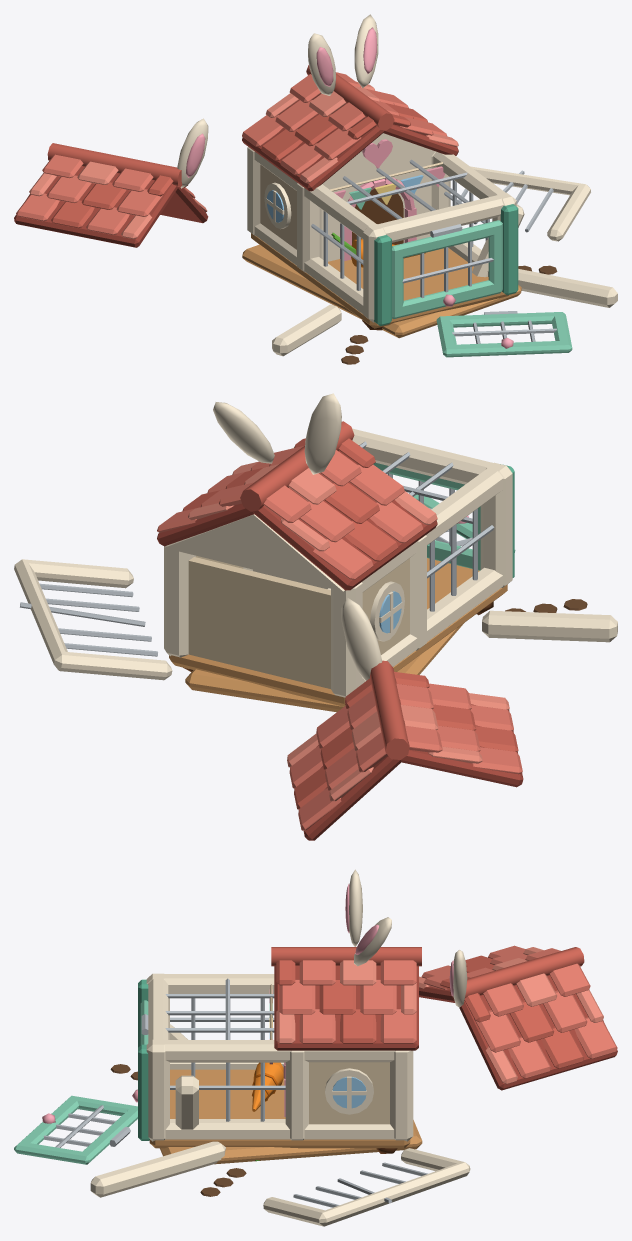
The model's file is rabbit-trap.glb.
3 views of the same model, one above another, from view 1: azimuth 30°, elevation 25°; view 2: azimuth 150°, elevation 25°; view 3: azimuth 270°, elevation 25° (orthographic). The views are drawn at different scales.
Visible parts, largest first — view 1: Trap_Body, Trap_Broken, Trap_Door; view 2: Trap_Body, Trap_Broken, Trap_Door; view 3: Trap_Body, Trap_Broken, Trap_Bait.
Part boxes in pixels (<box>): Trap_Body: <box>242,14,518,330</box>; Trap_Broken: <box>14,118,617,364</box>; Trap_Door: <box>392,220,502,319</box>; Trap_Body: <box>157,393,514,706</box>; Trap_Broken: <box>14,494,617,840</box>; Trap_Door: <box>373,462,480,570</box>; Trap_Body: <box>138,869,421,1153</box>; Trap_Broken: <box>14,945,617,1226</box>; Trap_Bait: <box>252,1062,283,1111</box>.
Bounding box in the file's own units: 2.02 × 0.9198 × 2.09.
